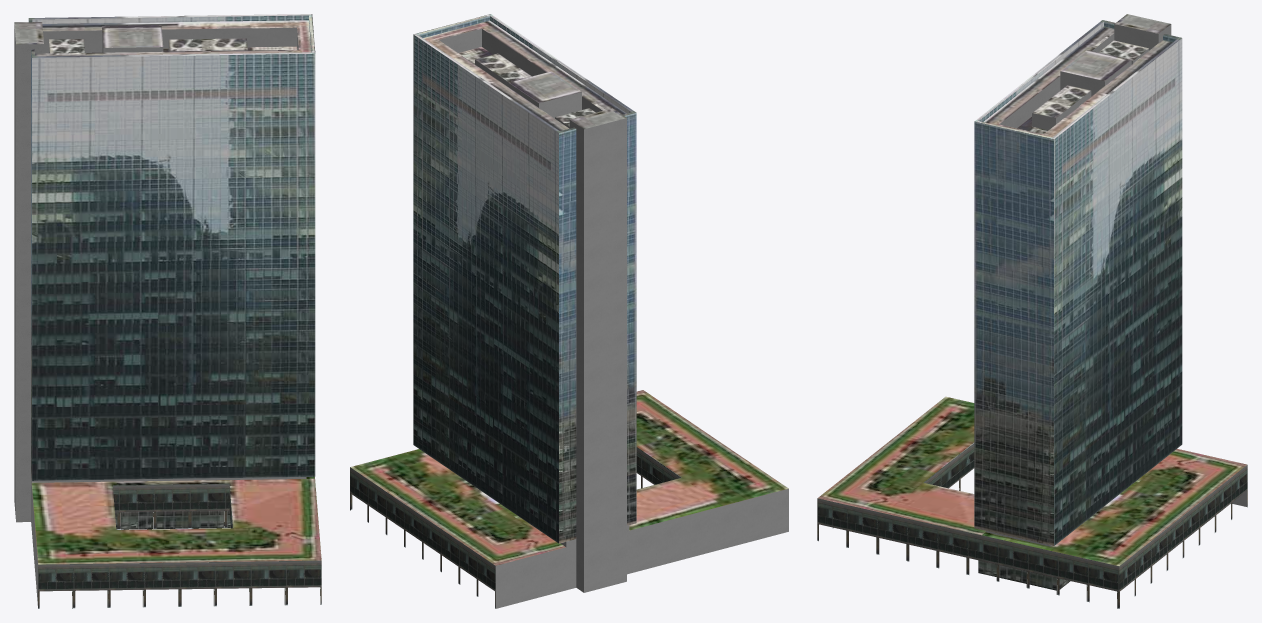
Rendered from LeverHouse.fbx.
The picture shows the model from 3 angles, left to right: view 1: azimuth 30°, elevation 25°; view 2: azimuth 150°, elevation 25°; view 3: azimuth 270°, elevation 25°; orthographic projection. The views are drawn at different scales.
Visible parts, largest first — view 1: Model; view 2: Model; view 3: Model.
Part boxes in pixels (bbox=[...]): Model: bbox=[14, 14, 321, 608]; Model: bbox=[350, 14, 788, 608]; Model: bbox=[817, 14, 1247, 608].
Size of what is drawn, in the model's own units: 72.97 by 92.05 by 78.17.
